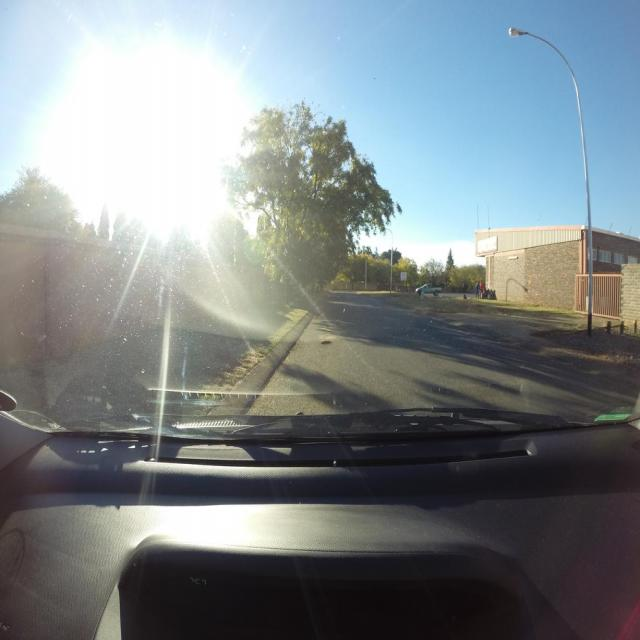Pothole: (320, 340, 334, 345)
